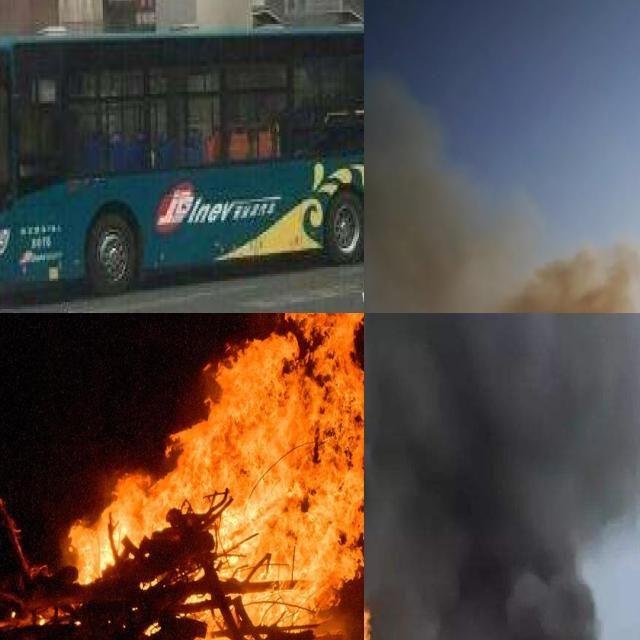fire: (26, 313, 364, 640)
smoke: (364, 313, 640, 640), (364, 73, 640, 313)
